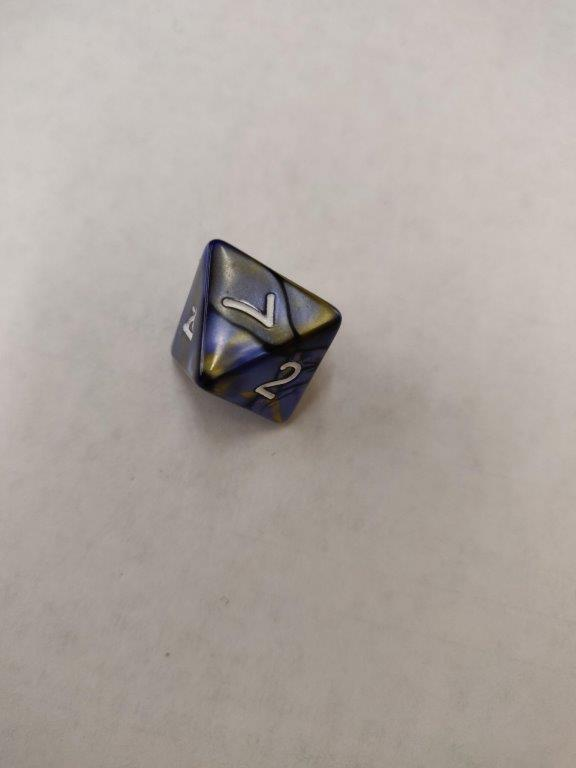d8-7: (169, 240, 343, 426)
